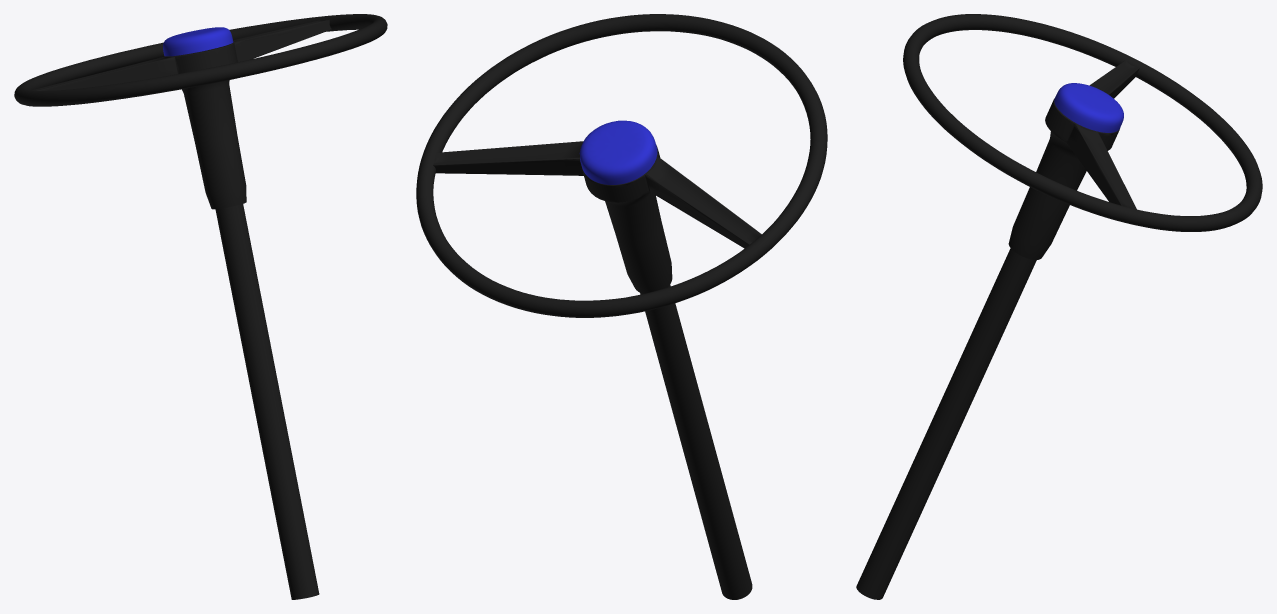
The model's file is Steering Wheel.fbx.
3 views of the same model, side by side, from view 1: azimuth 30°, elevation 25°; view 2: azimuth 150°, elevation 25°; view 3: azimuth 270°, elevation 25° (orthographic). The views are drawn at different scales.
Visible parts, largest first — view 1: SteeringWheel; view 2: SteeringWheel; view 3: SteeringWheel.
Part boxes in pixels (bbox=[...]): SteeringWheel: bbox=[14, 14, 387, 599]; SteeringWheel: bbox=[416, 14, 827, 599]; SteeringWheel: bbox=[856, 14, 1262, 599].
Bounding box in the file's own units: 0.6962 × 0.7307 × 1.08.
1 material, 1 textured.
